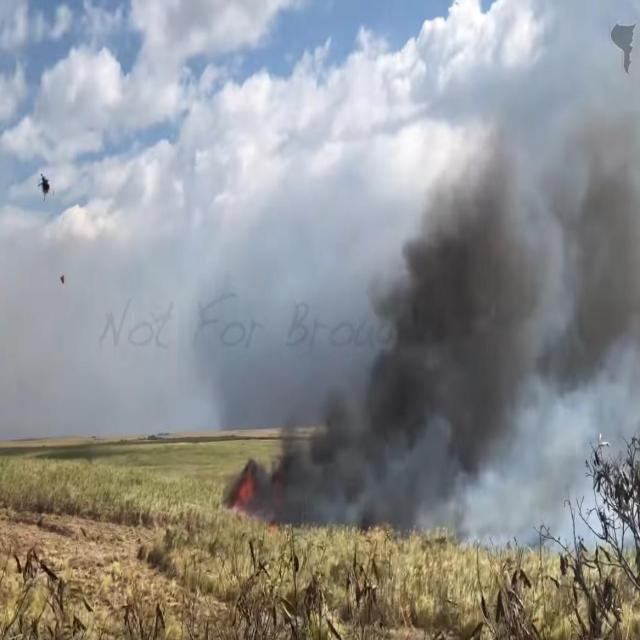Fire: (236, 474, 253, 502)
